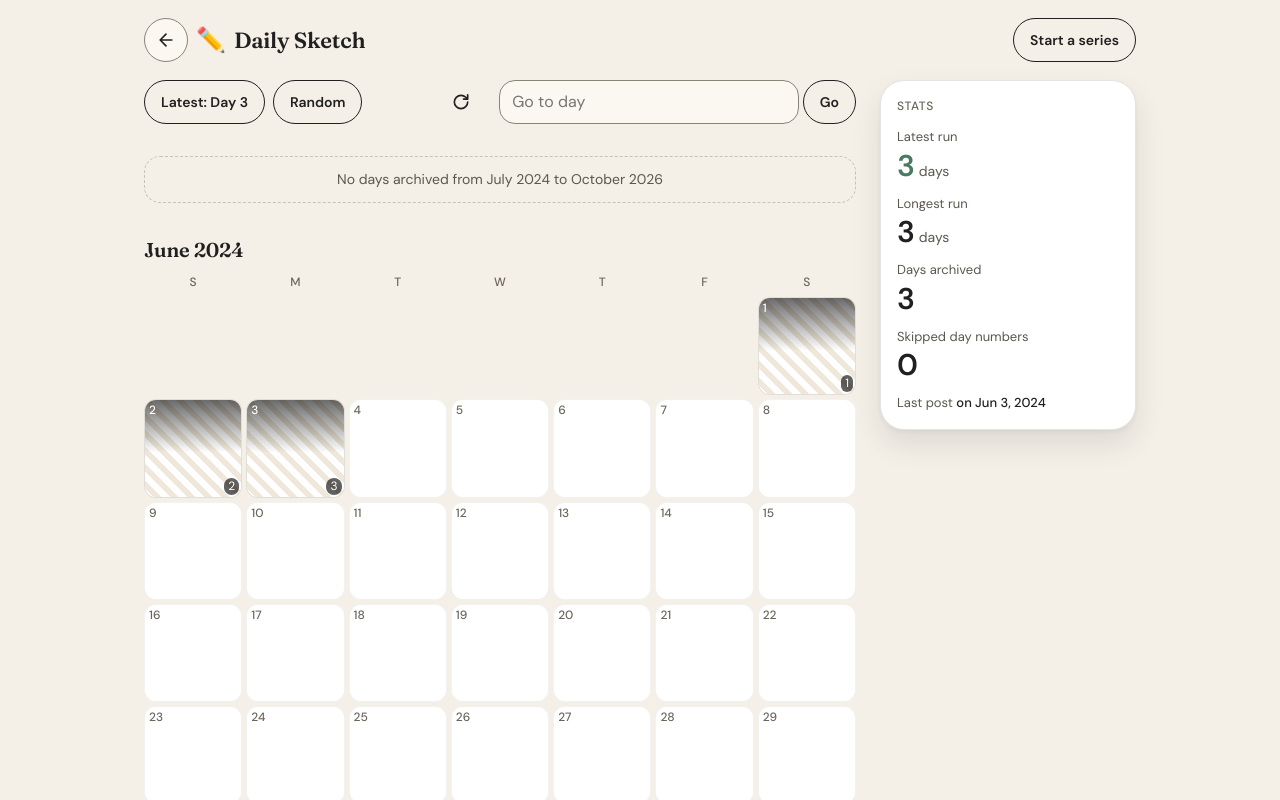
Test: Home › refreshes on request and says how it went
Click the button named "Refresh" at point(461, 102), box x1=439 y1=80 x2=483 y2=124
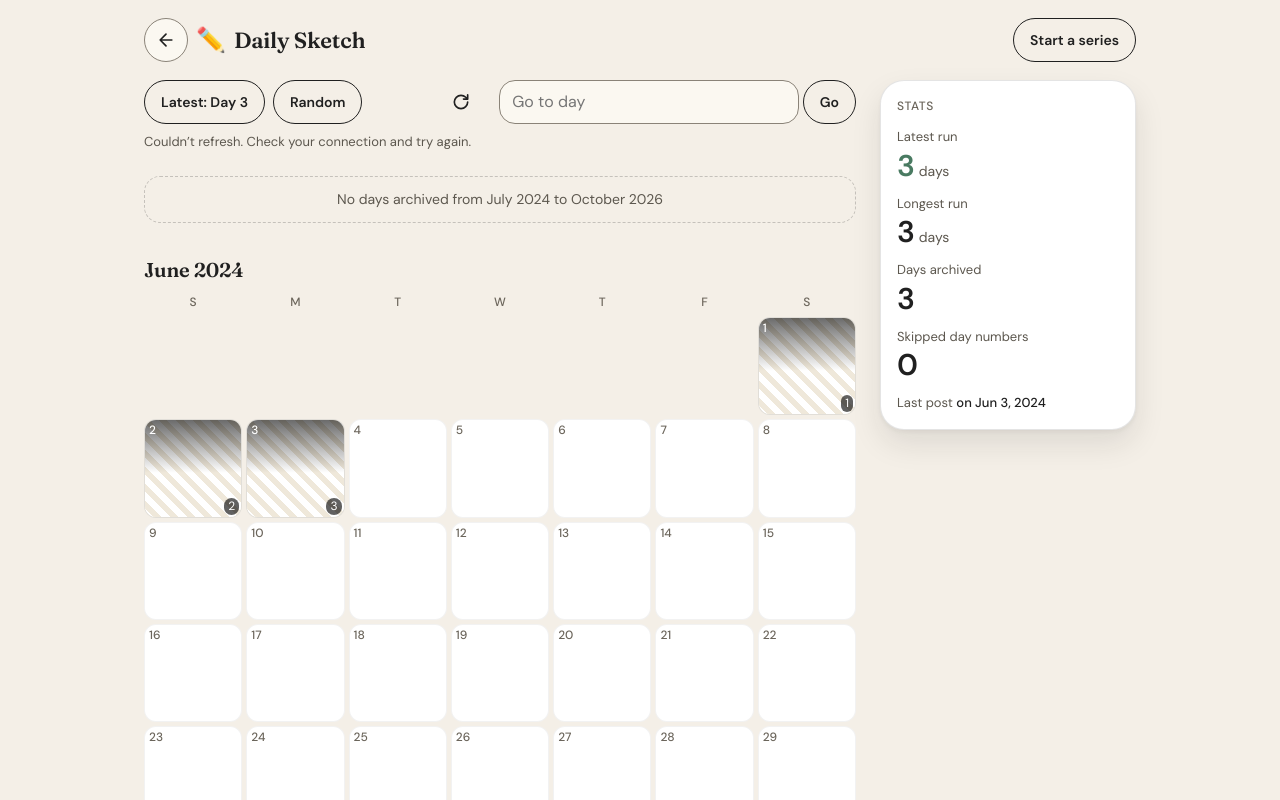
Check: the text "Couldn’t refresh. Check your connection and try again." is shown, box x1=144 y1=133 x2=471 y2=150
